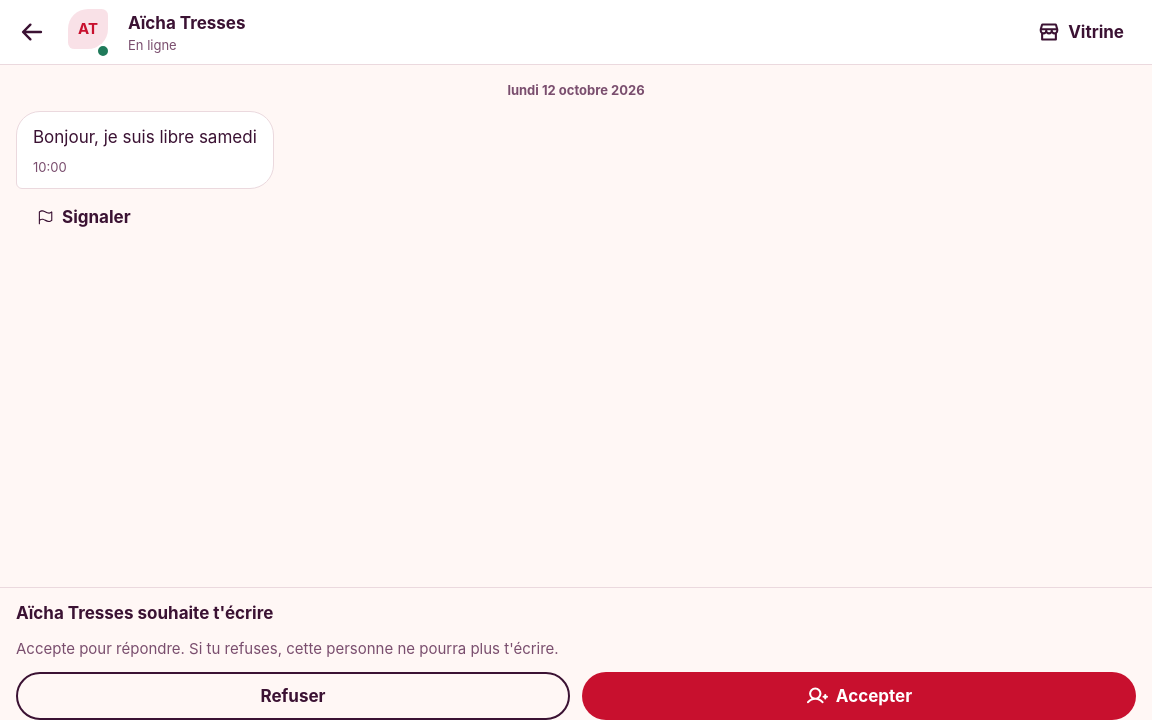
Scenario: Thread › lets her accept a message request
The width and height of the screenshot is (1152, 720).
Expected: the text "Aïcha Tresses souhaite t'écrire" is shown, [16, 603, 273, 623]
Expected: the field labelled "Ton message" is not shown
Click the button "Accepter".
click(859, 696)  # box [582, 672, 1136, 719]
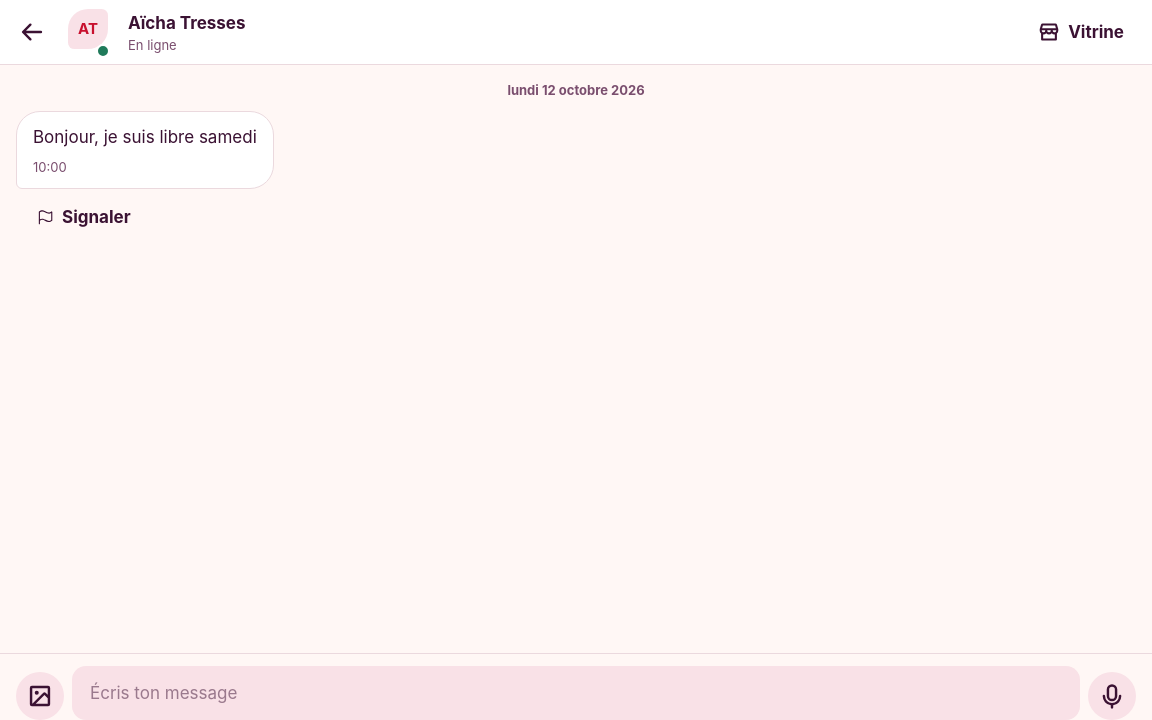
Expected: the text box labelled "ton message" is shown, [72, 666, 1080, 719]
